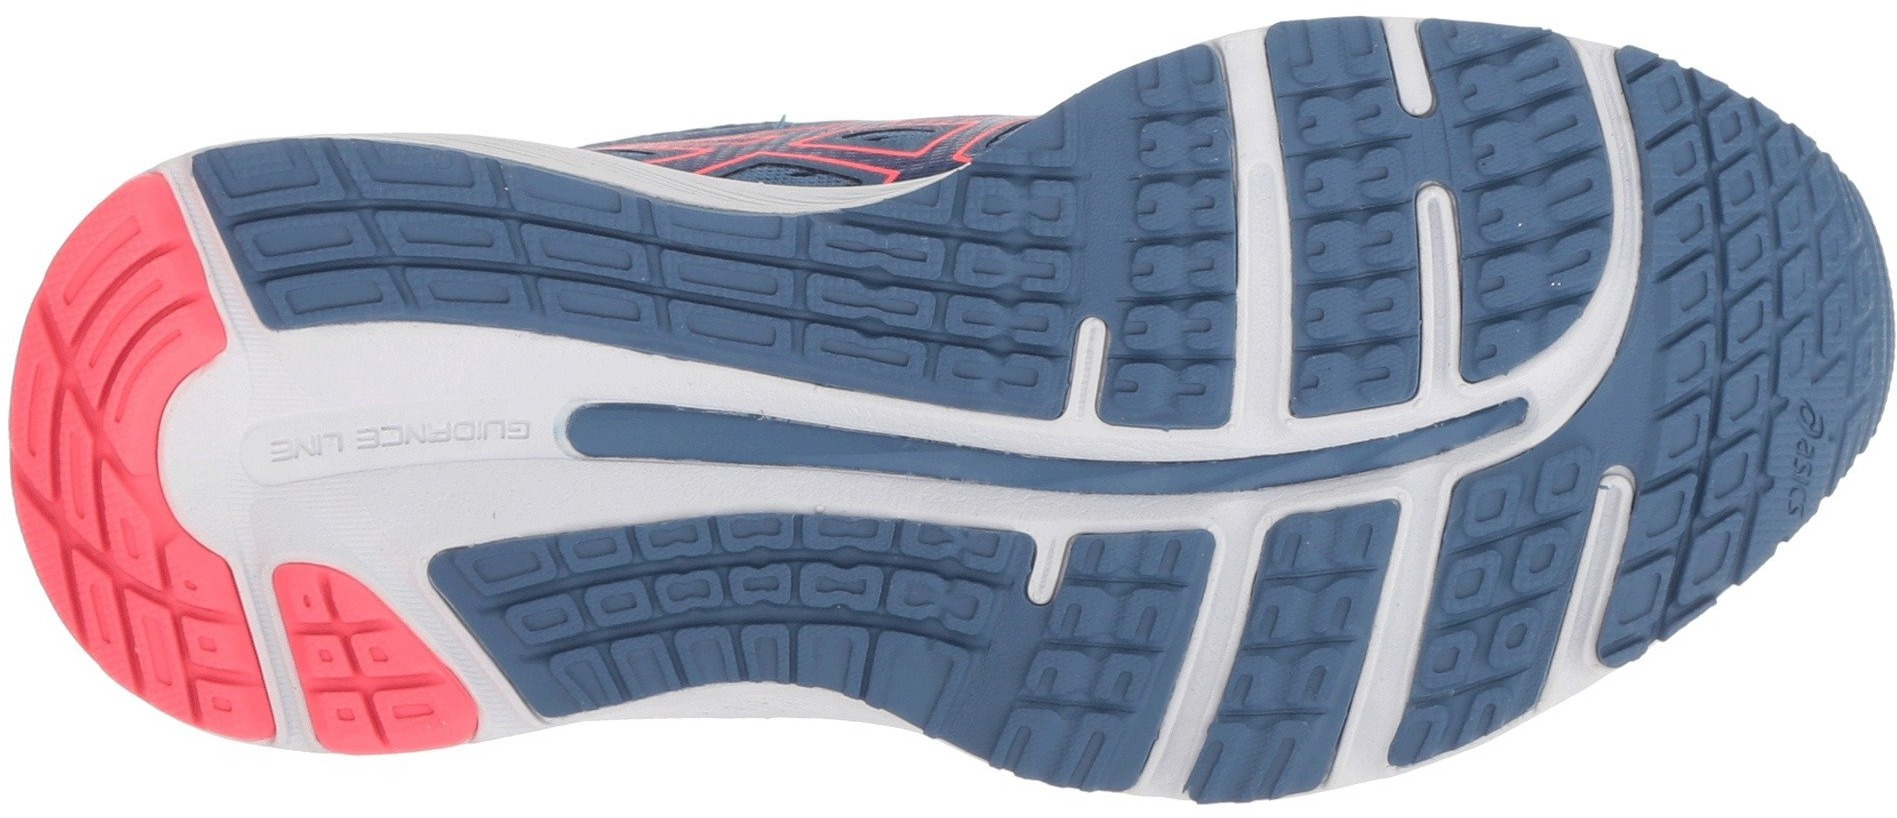bowtie: (788, 221, 959, 394), (629, 492, 803, 627)
quad: (1666, 195, 1855, 384), (278, 146, 471, 321), (1676, 396, 1778, 486)
ribbon: (1201, 21, 1334, 417)
text: (269, 401, 488, 500), (1792, 424, 1838, 484)
